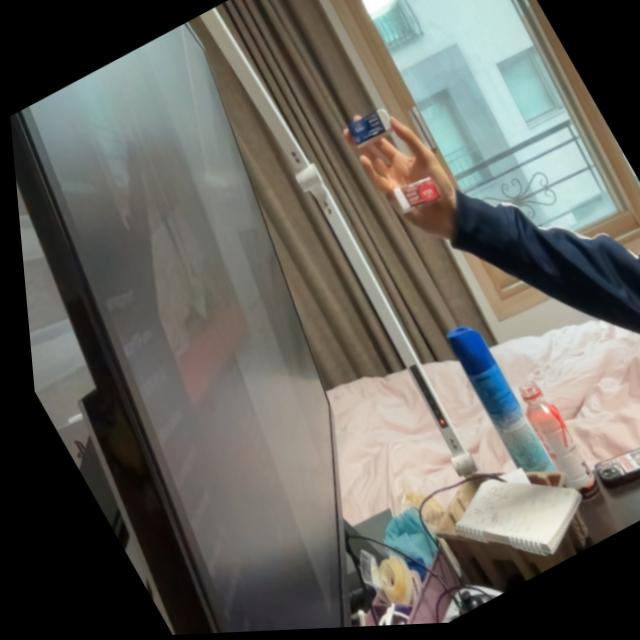blue: (339, 106, 397, 154)
red: (383, 172, 446, 229)
